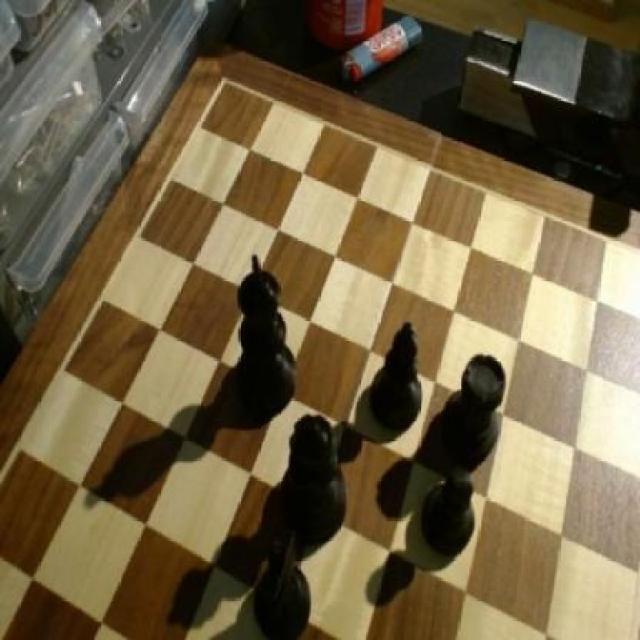bishop: (369, 316, 425, 428)
black-bishop: (236, 246, 300, 417)
black-king: (251, 525, 317, 639)
black-knight: (424, 465, 480, 556)
black-pawn: (280, 408, 349, 544)
black-queen: (440, 352, 508, 468)
